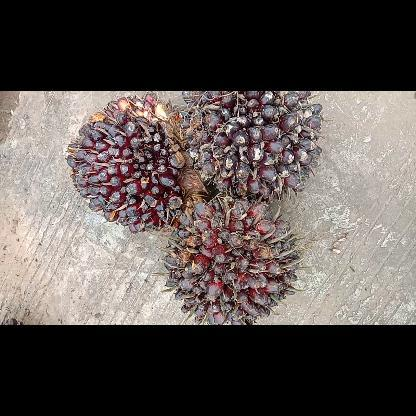TBS mentah: (62, 92, 210, 235), (162, 194, 306, 324), (177, 90, 327, 202)
